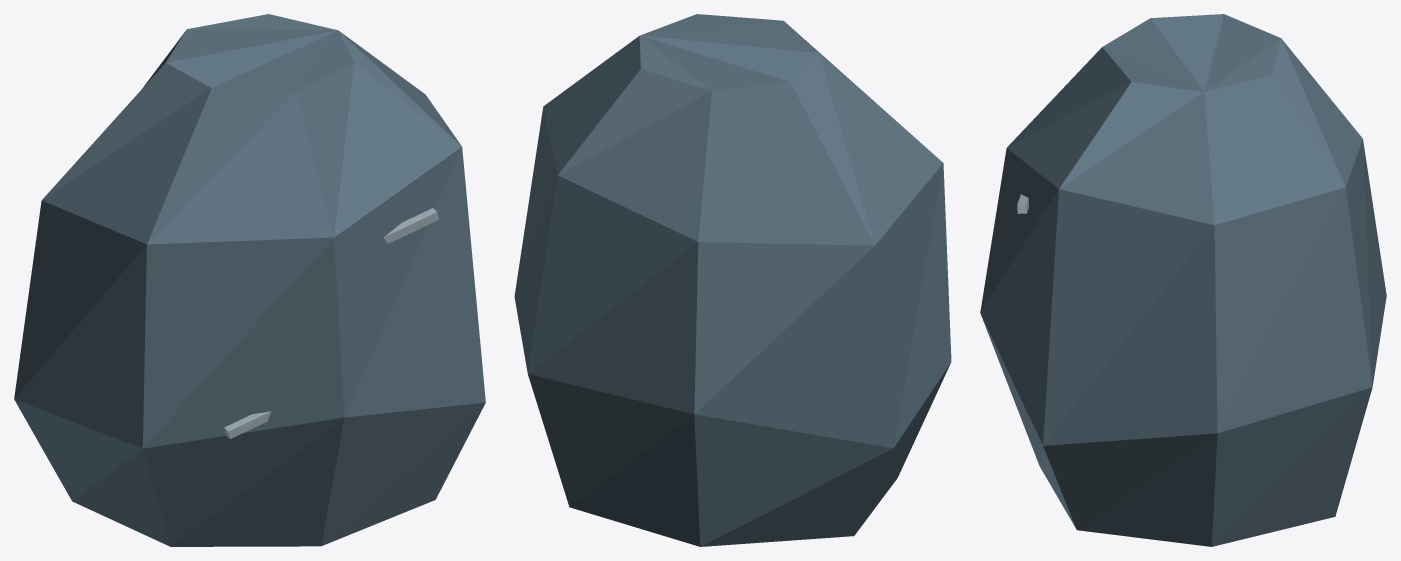
Rendered from rock_node_frost_a.glb.
3 renders of one model, left to right at view 1: azimuth 30°, elevation 25°; view 2: azimuth 150°, elevation 25°; view 3: azimuth 270°, elevation 25°, orthographic.
Visible parts, largest first — view 1: geometry; view 2: geometry; view 3: geometry.
Part boxes in pixels (x1=…): geometry: x1=14, y1=14, x2=485, y2=546; geometry: x1=514, y1=14, x2=951, y2=546; geometry: x1=980, y1=14, x2=1386, y2=546.
Bounding box in the file's own units: 0.7001 × 0.7 × 0.6102.
